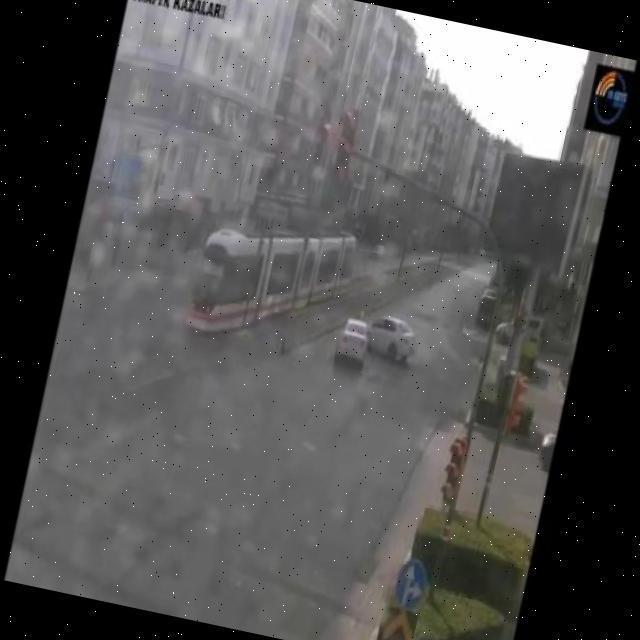accident: (334, 307, 420, 381)
